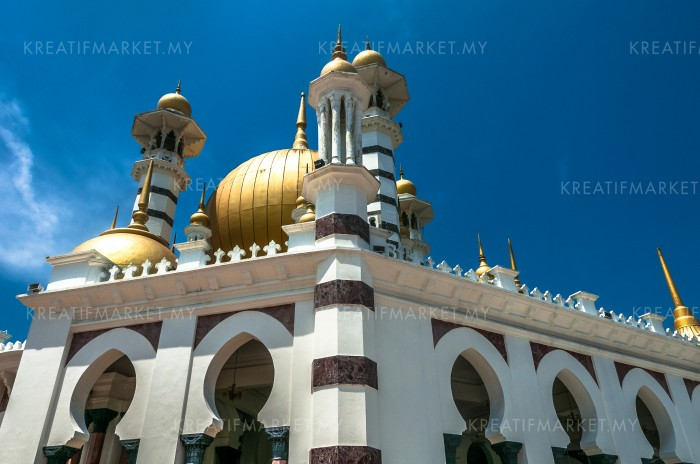Mosque: (46, 43, 433, 443)
